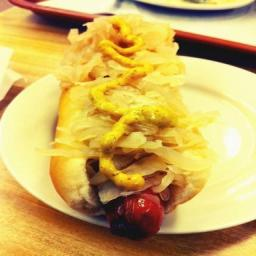hotdog: (107, 193, 170, 246)
